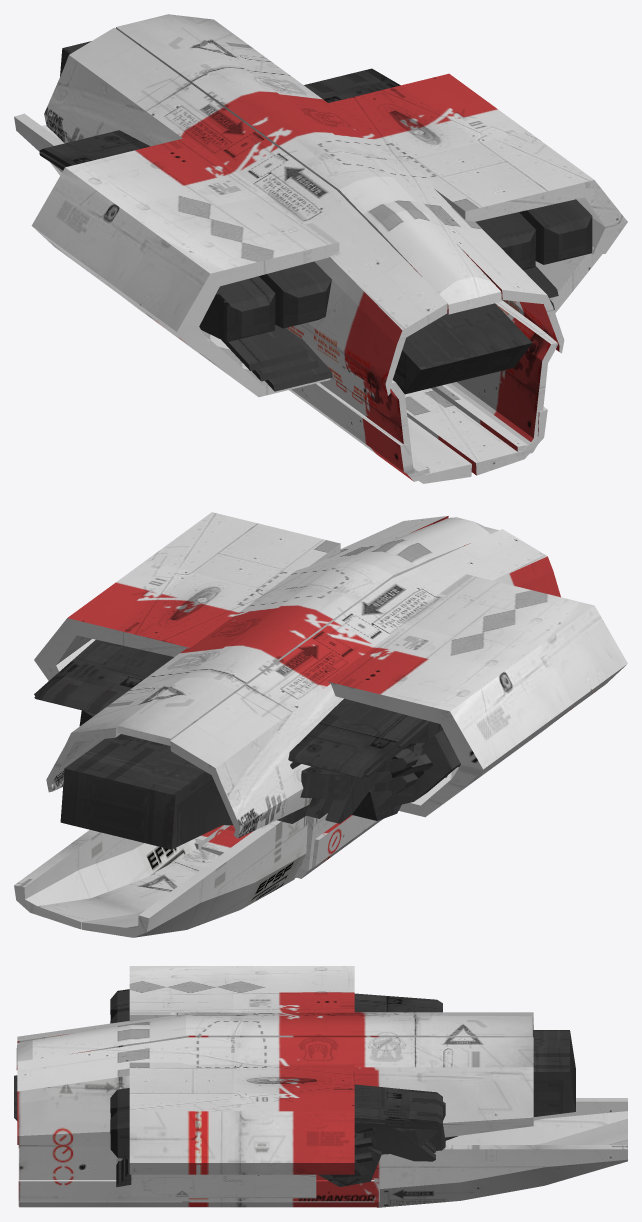
File: body01.FBX
3 renders of one model, top to bottom at view 1: azimuth 30°, elevation 25°; view 2: azimuth 150°, elevation 25°; view 3: azimuth 270°, elevation 25°, orthographic. The views are drawn at different scales.
Visible parts, largest first — view 1: body01; view 2: body01; view 3: body01.
Part boxes in pixels (x1,y1,x2,y2): body01: [14, 14, 627, 483]; body01: [14, 512, 627, 937]; body01: [14, 966, 627, 1207].
Bounding box in the file's own units: 533 × 247 × 811.
